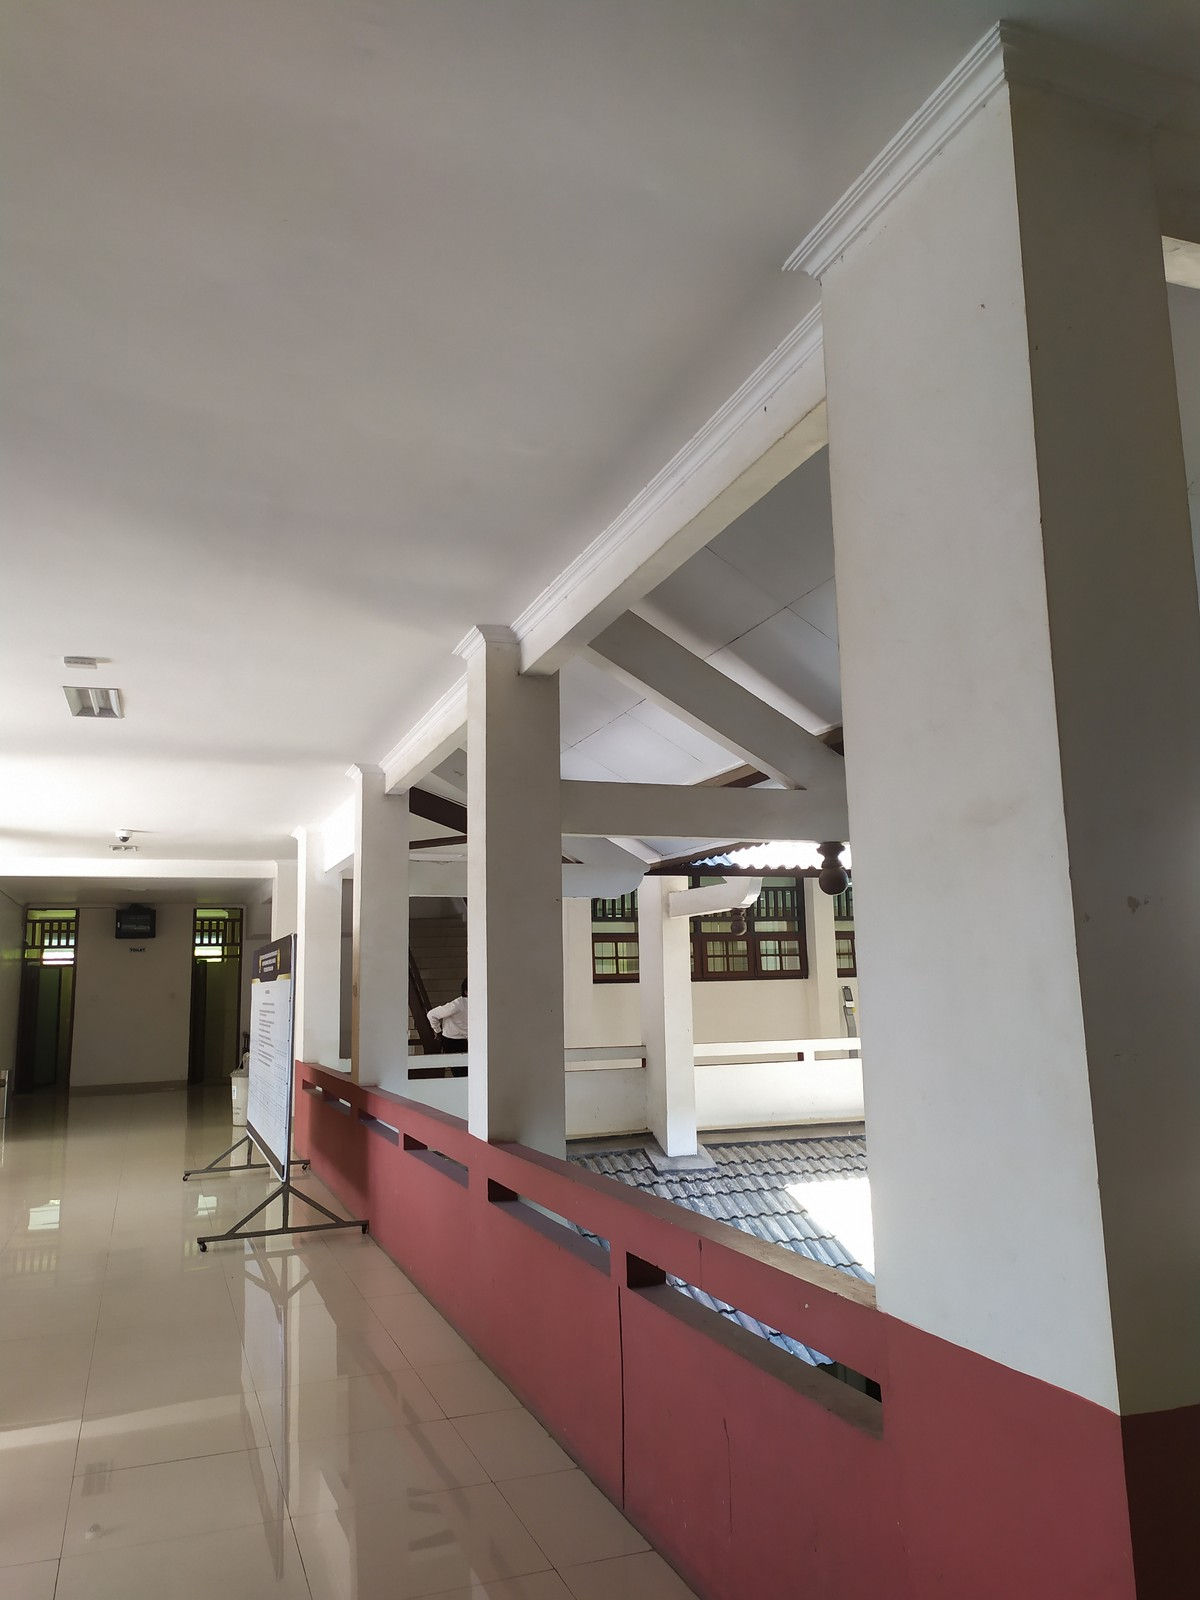concrete beam: (545, 774, 834, 845), (655, 877, 736, 929)
concrete column: (458, 651, 577, 1177), (344, 779, 424, 1112), (637, 886, 700, 1160), (296, 848, 344, 1086)
